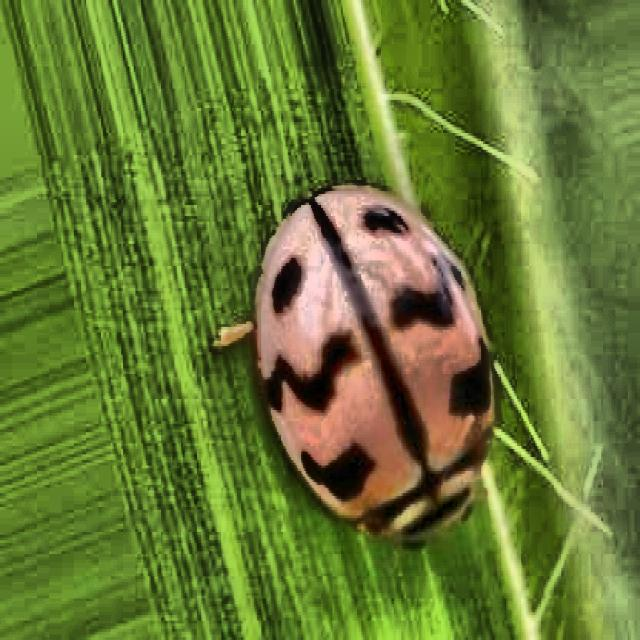Asian-Lady-beetle: (217, 125, 534, 618)
